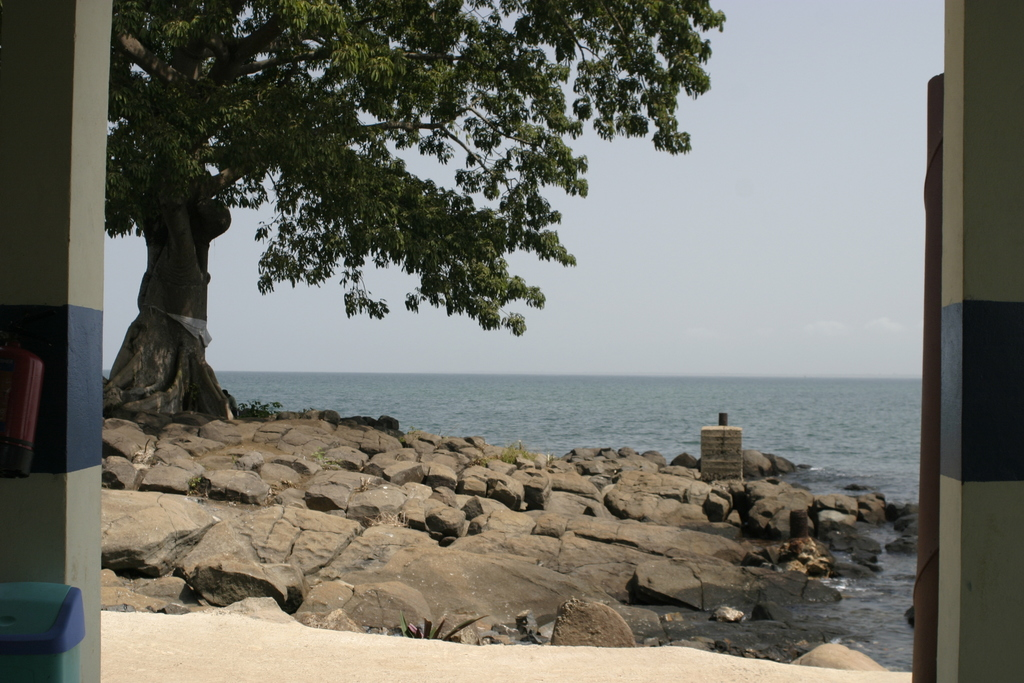Tree: (103, 0, 727, 429)
